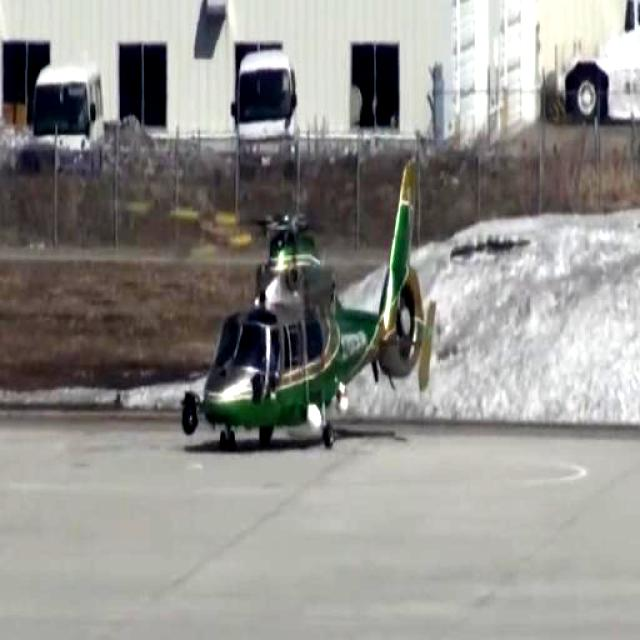drone: (178, 155, 431, 462)
